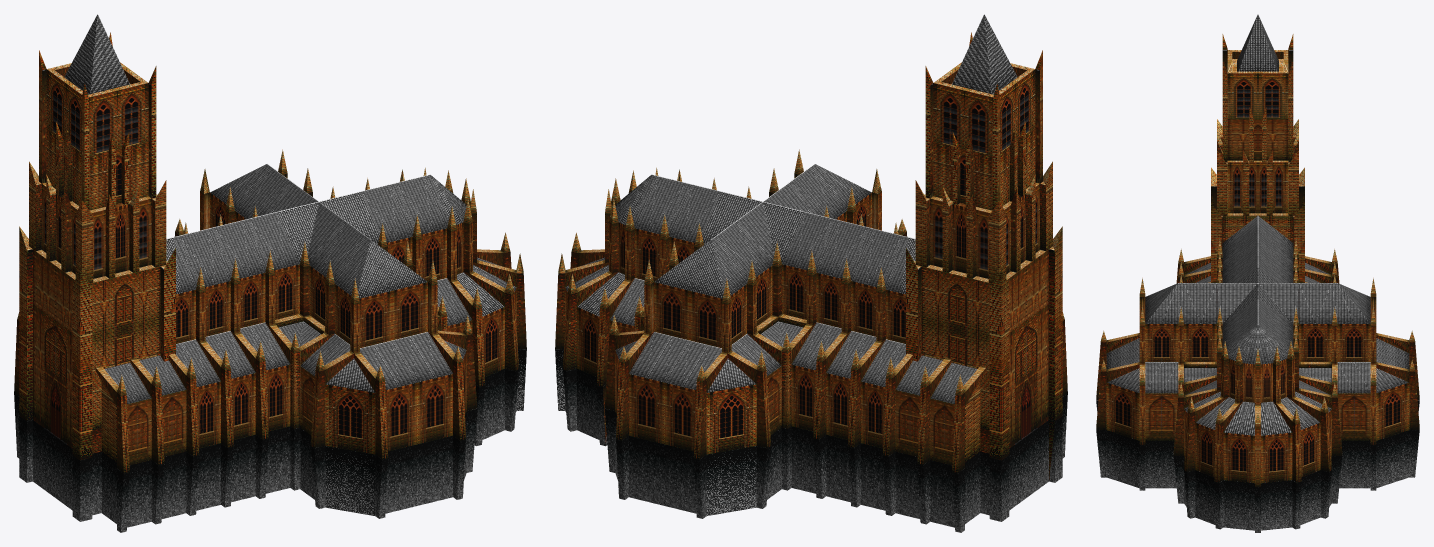
The model's file is kathedraal_mod1_1a.fbx.
3 views of the same model, side by side, from view 1: azimuth 30°, elevation 25°; view 2: azimuth 150°, elevation 25°; view 3: azimuth 270°, elevation 25° (orthographic). The views are drawn at different scales.
Visible parts, largest first — view 1: kathedraal_mod1_1a; view 2: kathedraal_mod1_1a; view 3: kathedraal_mod1_1a.
Part boxes in pixels (x1,y1,x2,y2): kathedraal_mod1_1a: [14, 14, 526, 532]; kathedraal_mod1_1a: [555, 14, 1067, 532]; kathedraal_mod1_1a: [1096, 14, 1419, 532].
Size of the model in its own units: 10000 by 9772 by 7858.
